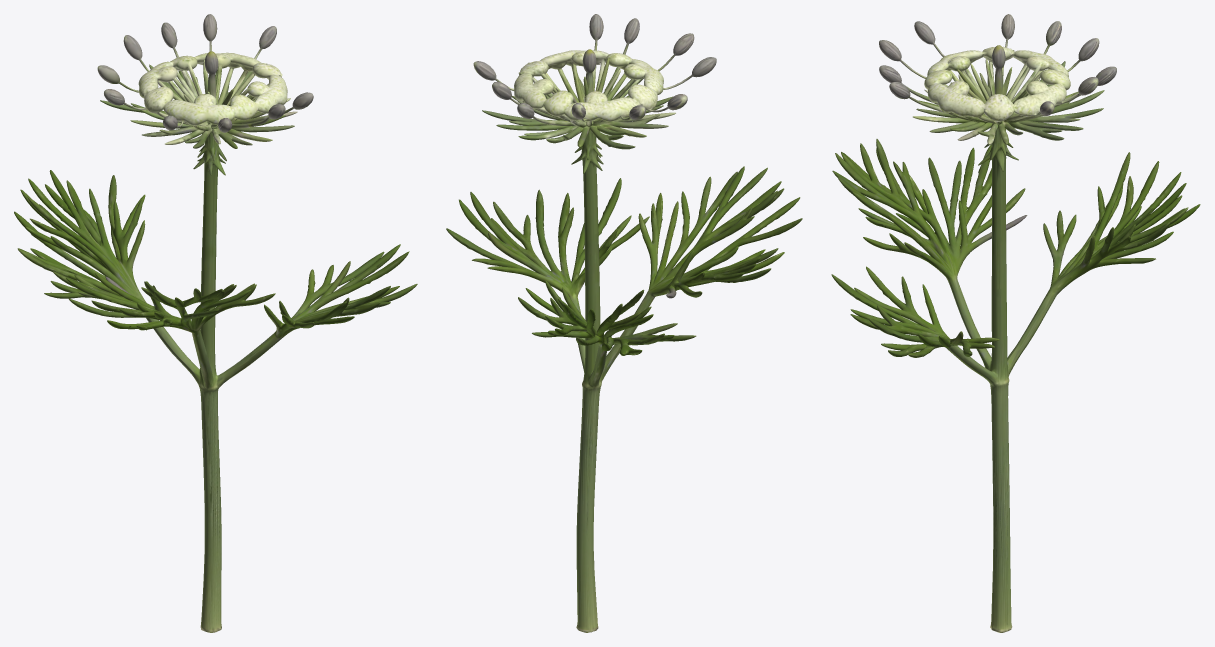
Rendered from ziran.glb.
The picture shows the model from 3 angles, left to right: view 1: azimuth 30°, elevation 25°; view 2: azimuth 150°, elevation 25°; view 3: azimuth 270°, elevation 25°; orthographic projection.
Parts seen in each view (by area): view 1: node_0; view 2: node_0; view 3: node_0.
Part boxes in pixels (x1,y1,x2,y2): node_0: [14, 14, 417, 632]; node_0: [446, 14, 802, 632]; node_0: [831, 14, 1200, 632].
Size of the model in its own units: 0.6706 by 1.15 by 0.6595.
Materials: 1 (1 with a texture image).
